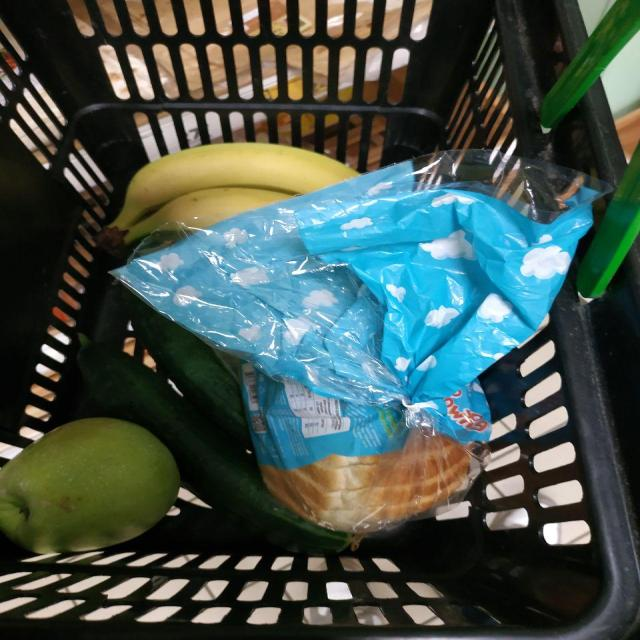Apple: (0, 418, 180, 554)
Banana: (110, 142, 358, 230), (125, 188, 292, 243)
Bread: (115, 151, 598, 534)
Cucumber: (78, 342, 350, 555), (125, 290, 252, 449)
